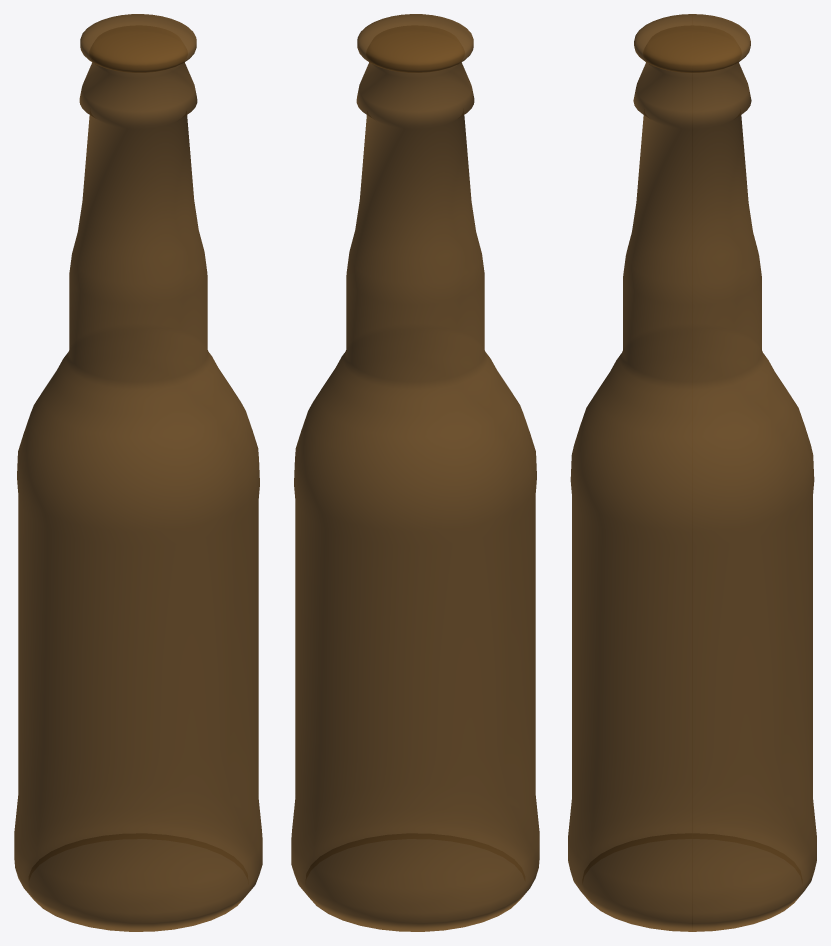
File: bearBottle2.gltf
3 renders of one model, left to right at view 1: azimuth 30°, elevation 25°; view 2: azimuth 150°, elevation 25°; view 3: azimuth 270°, elevation 25°, orthographic.
Visible parts, largest first — view 1: Cylinder, Cylinder.001; view 2: Cylinder, Cylinder.001; view 3: Cylinder, Cylinder.001.
Boxes of the visible parts, box(x1,y1,x2,y2) form: Cylinder: box(14, 26, 262, 931); Cylinder.001: box(80, 14, 196, 72); Cylinder: box(291, 26, 539, 931); Cylinder.001: box(357, 14, 473, 72); Cylinder: box(568, 26, 816, 931); Cylinder.001: box(634, 14, 750, 72).
Bounding box in the file's own units: 1.22 × 4.63 × 1.22.
